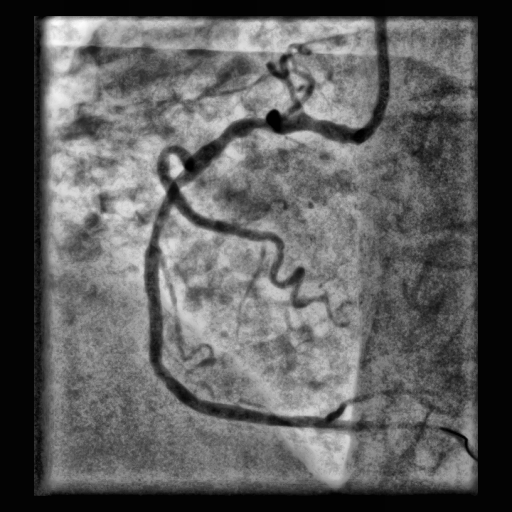pborca: (326, 388, 433, 421)
pda: (326, 421, 477, 460)
rca: (145, 113, 359, 430)
